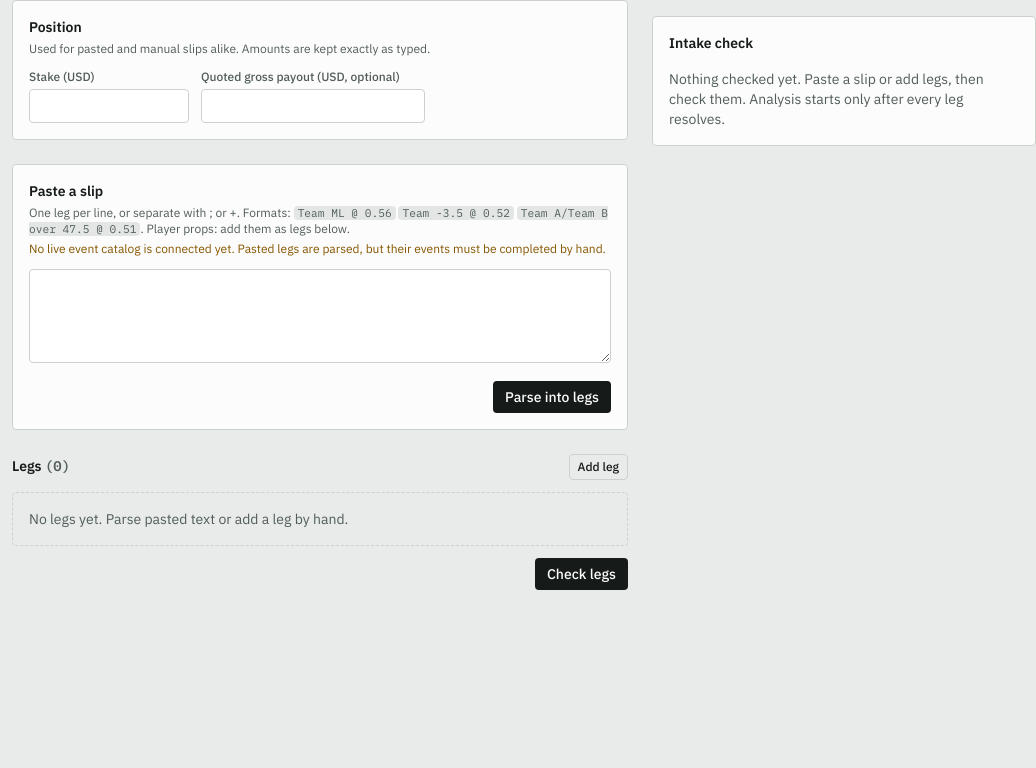
Scenario: ambiguous events are listed for the user to choose, never auto-picked
This screenshot has width=1036, height=768.
Step 1. Type "Chiefs ML @ 0.56" into the text box named "Slip text" → coordinates (320, 316), box top-left (29, 269), bottom-right (611, 363)
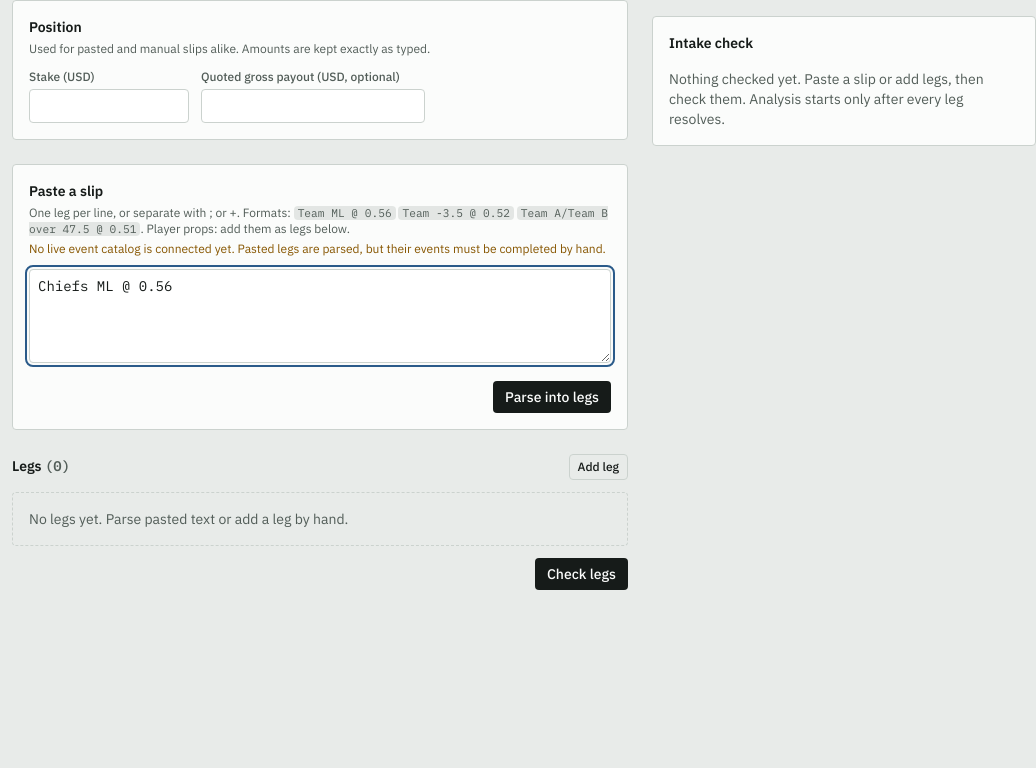
Step 2. Type "25" into the field labelled "Stake (USD)" → coordinates (109, 106), box top-left (29, 89), bottom-right (189, 123)
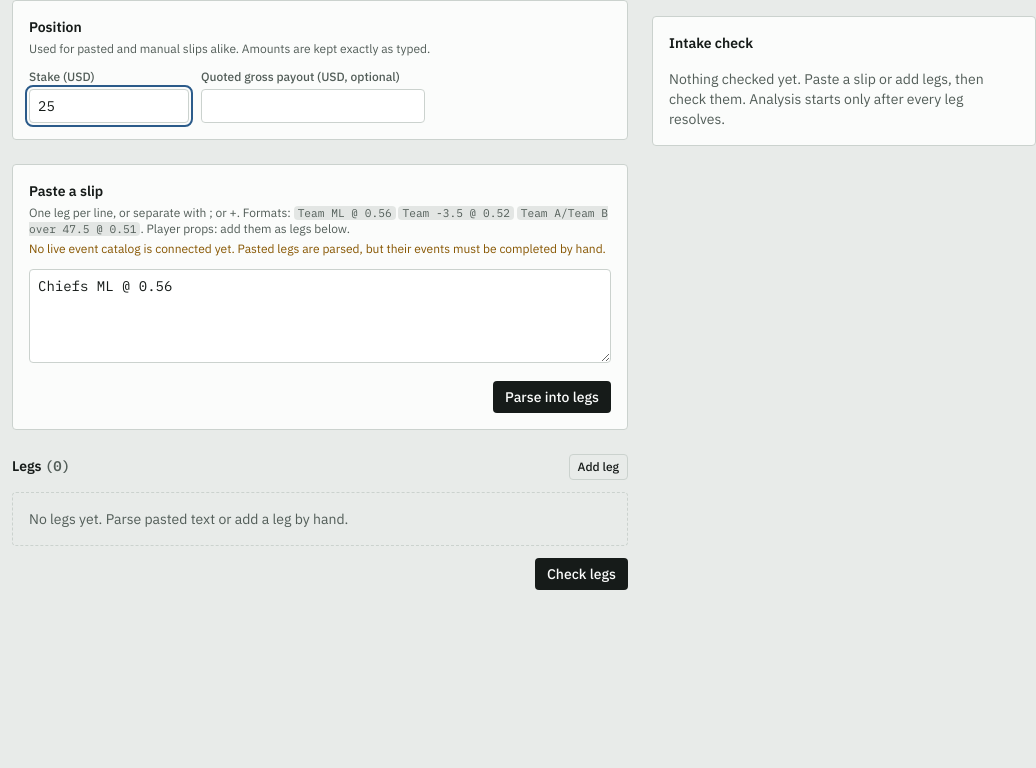
Step 3. Click the button "Parse into legs" → coordinates (552, 397), box top-left (493, 381), bottom-right (611, 413)
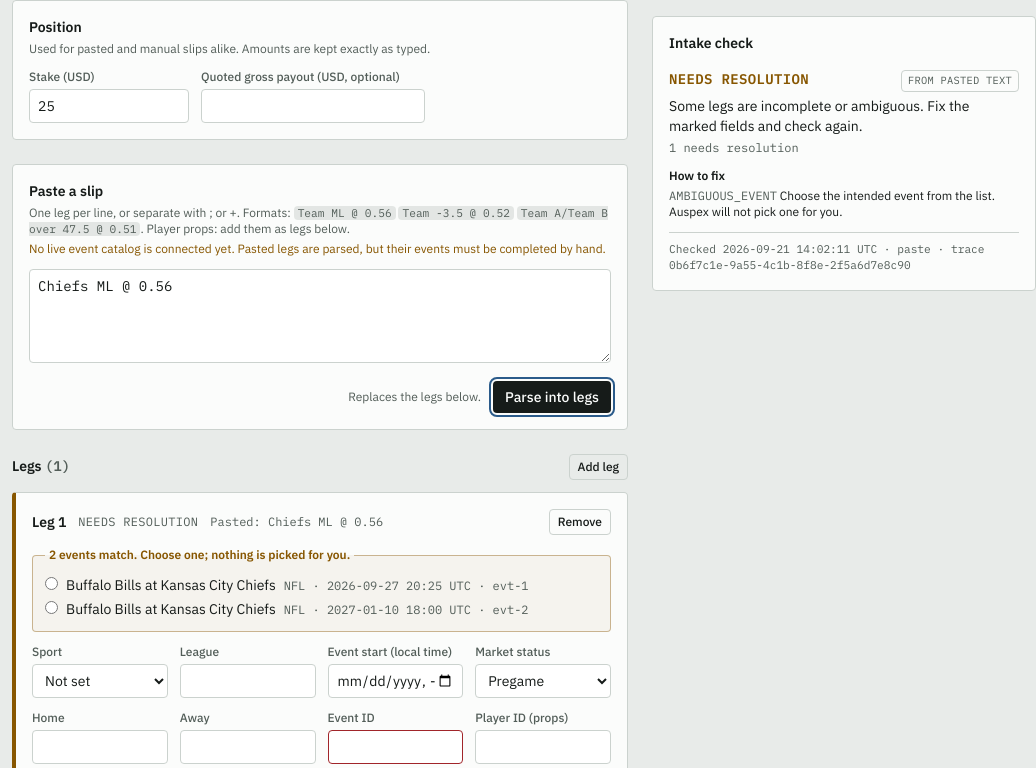
Expected: the field labelled "Event ID" is empty, top-left (328, 730), bottom-right (463, 764)
Step 4. Click the 2nd radio button → coordinates (52, 608), box top-left (45, 601), bottom-right (58, 614)
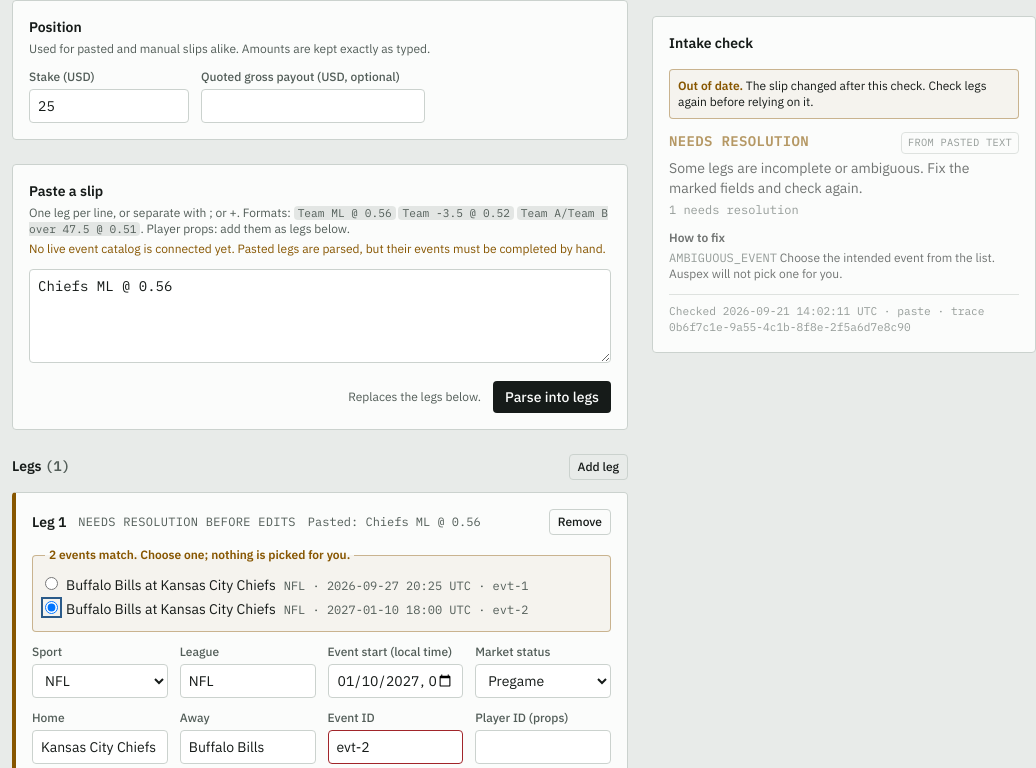
Now the field labelled "Event ID" holds "evt-2", box top-left (328, 730), bottom-right (463, 764)
Now the field labelled "Home" holds "Kansas City Chiefs", box top-left (32, 730), bottom-right (168, 764)
Now the dropdown labelled "Sport" shows "NFL", box top-left (32, 664), bottom-right (168, 698)
